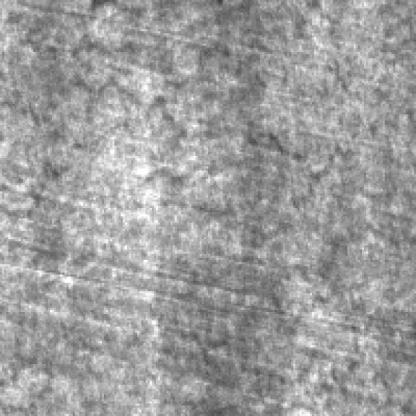crazing: (48, 29, 396, 175)
